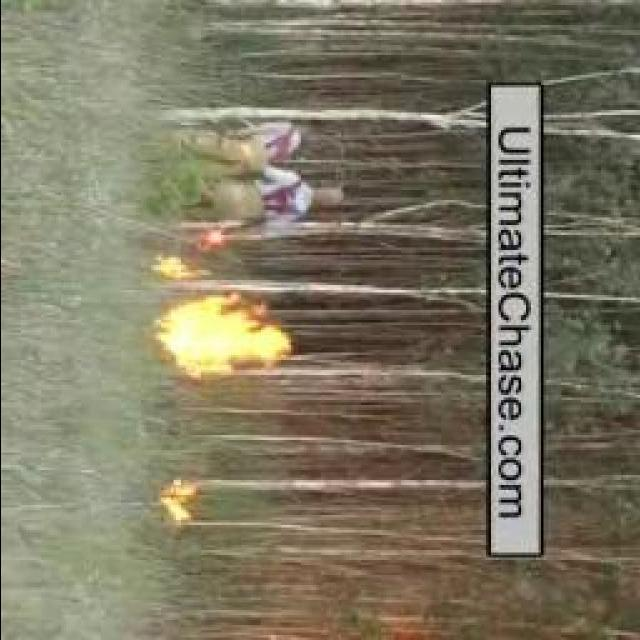Fire: (154, 296, 290, 386), (152, 250, 205, 282), (157, 484, 199, 520)
